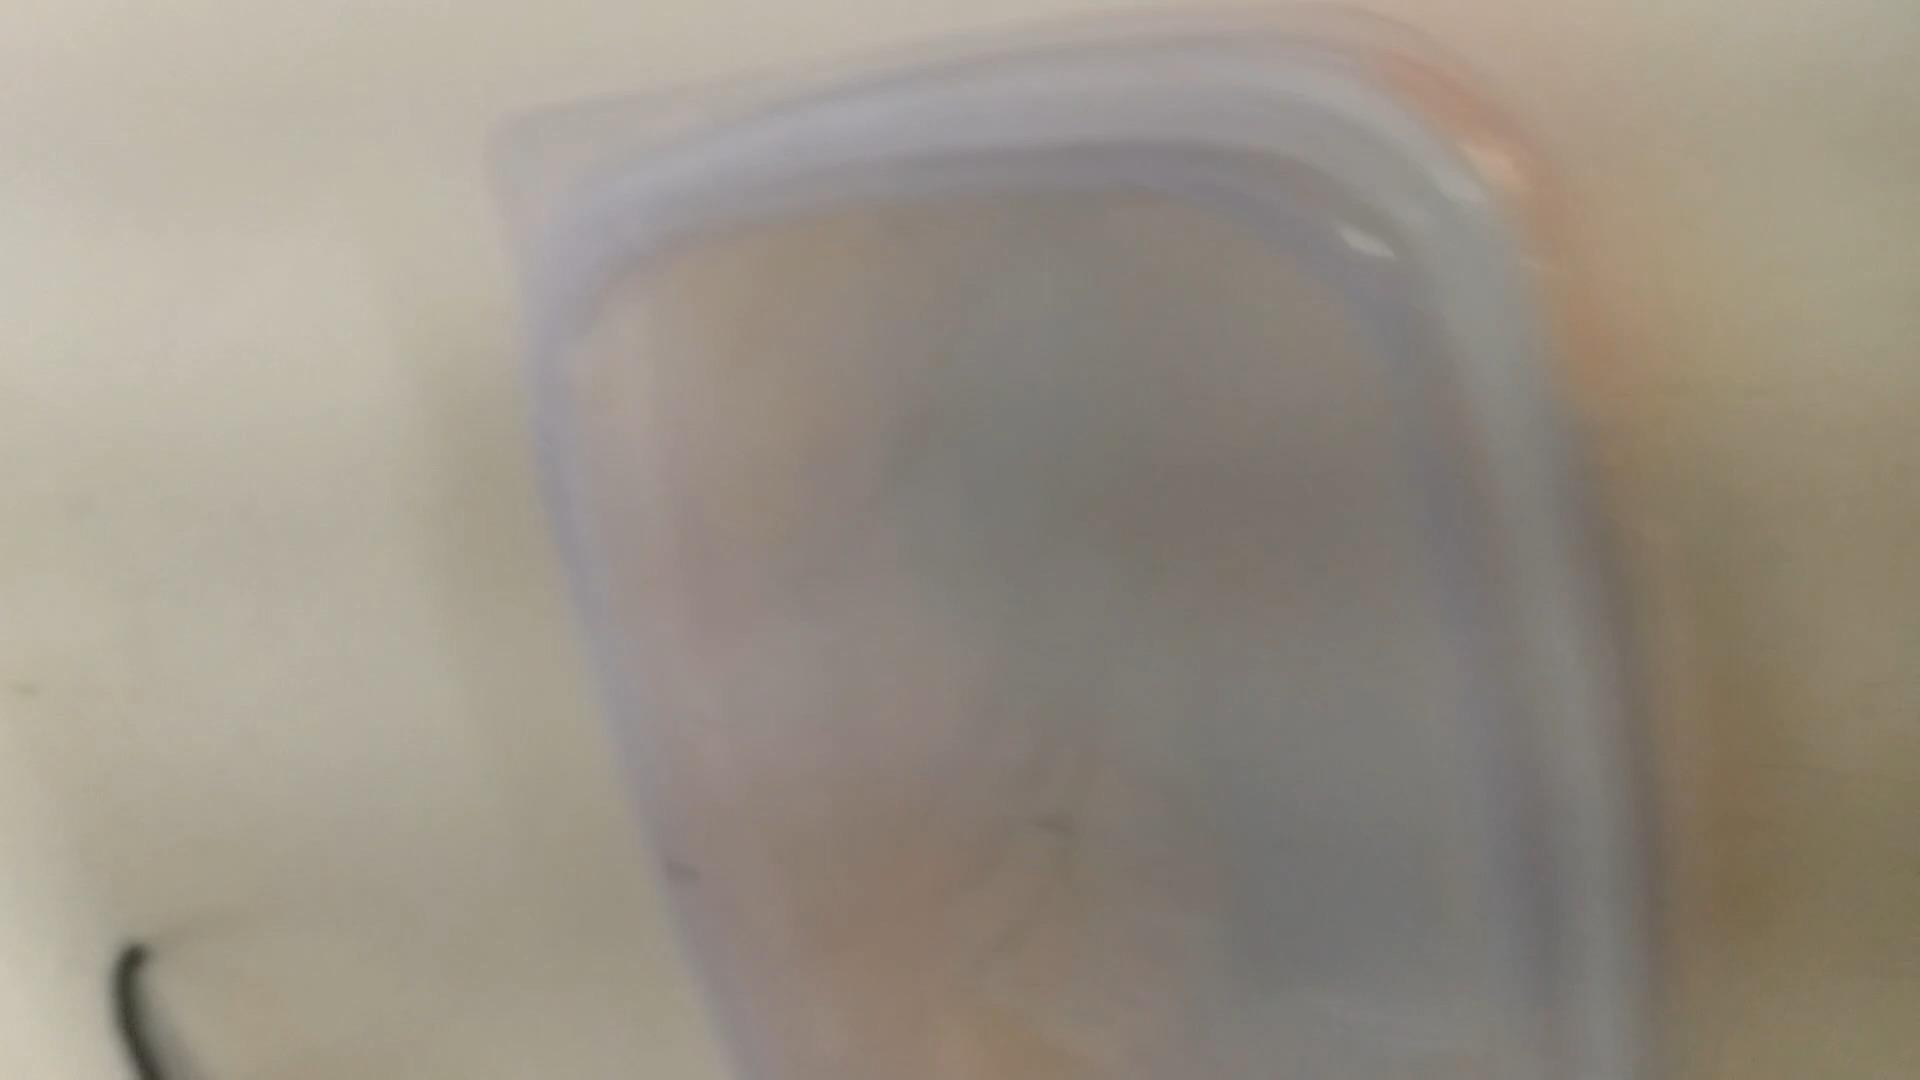butter: (480, 30, 1713, 1080)
